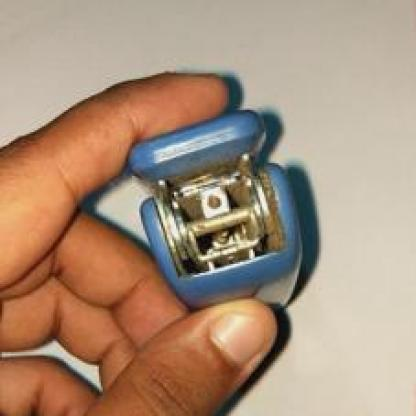stapler: (140, 64, 306, 337)
